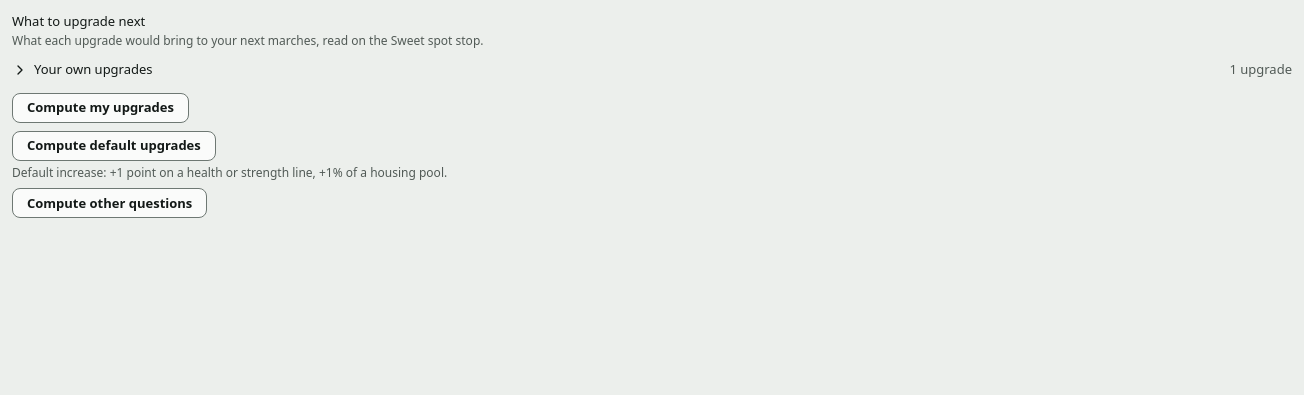
Scenario: a typed upgrade, from the profile to the ranked card › the pass reads it as a probe, and the card ranks it first with its gain per cost
Click the button "Compute my upgrades" at (100, 108), box x1=12 y1=93 x2=189 y2=123
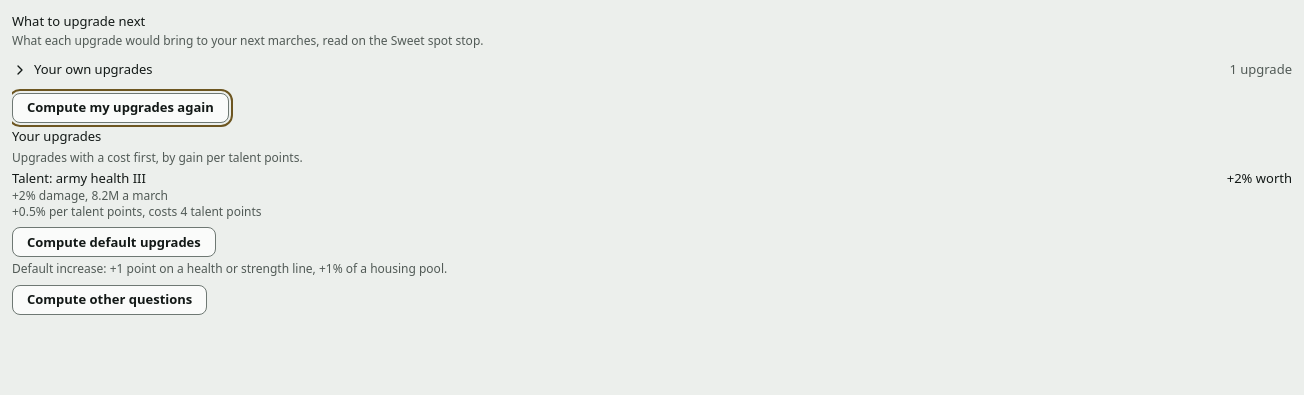
Check: the text "Your upgrades" is shown, box x1=12 y1=127 x2=101 y2=145
Check: the number of elements with test id "advisor-row" is 1, box x1=12 y1=169 x2=1292 y2=219
Check: the text with test id "advisor-per-cost" reads "+0.5% per talent points, costs 4 talent points", box x1=12 y1=202 x2=262 y2=220
Note: The default pass is its own: it reads the generic probes and heads its own list.
Click the button "Compute default upgrades" at (114, 242), box x1=12 y1=227 x2=216 y2=257
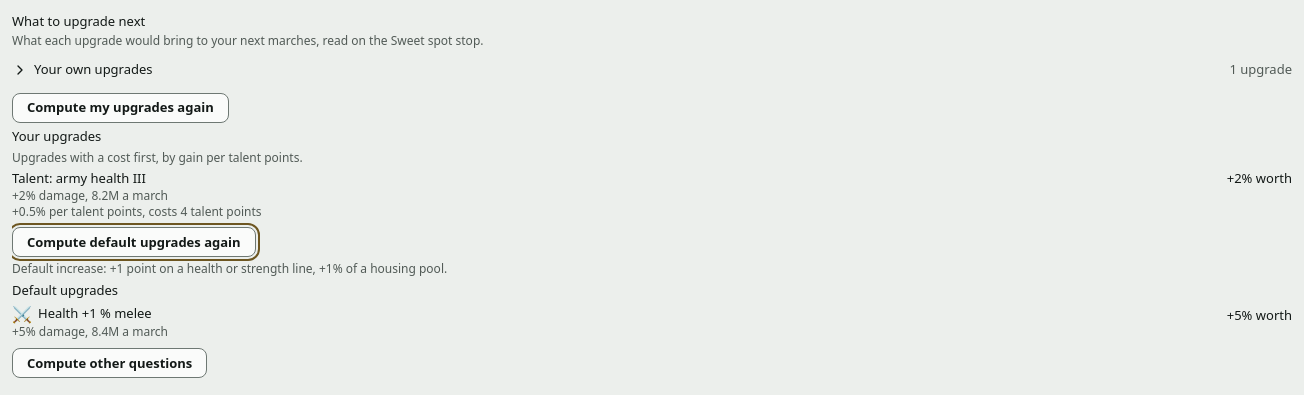
Check: the element with test id "advisor-row" shows "Talent: army health III", box x1=12 y1=169 x2=146 y2=187
Check: the text "Default upgrades" is shown, box x1=12 y1=281 x2=118 y2=299
Check: the number of elements with test id "advisor-row" is 2, box x1=12 y1=169 x2=1292 y2=219; x1=12 y1=304 x2=1292 y2=340
